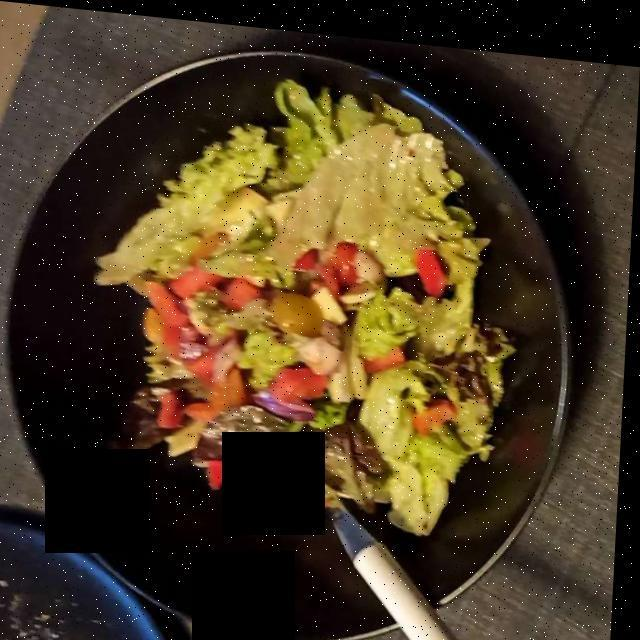salad: (116, 103, 506, 496)
